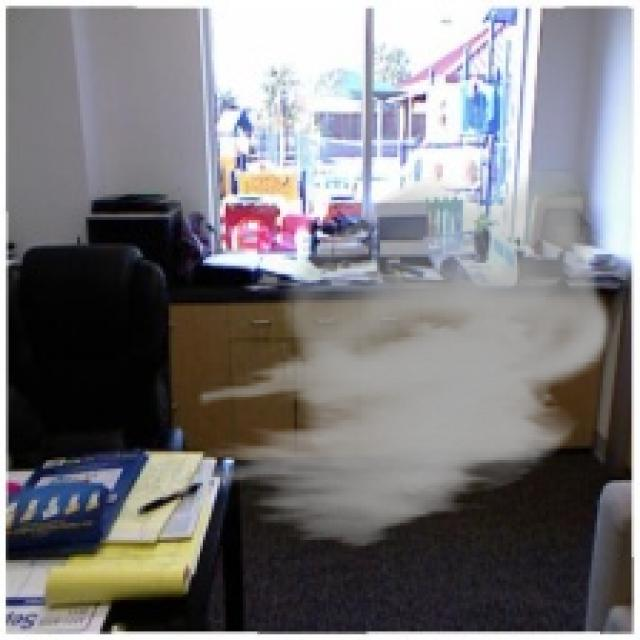smoke: (197, 168, 612, 552)
